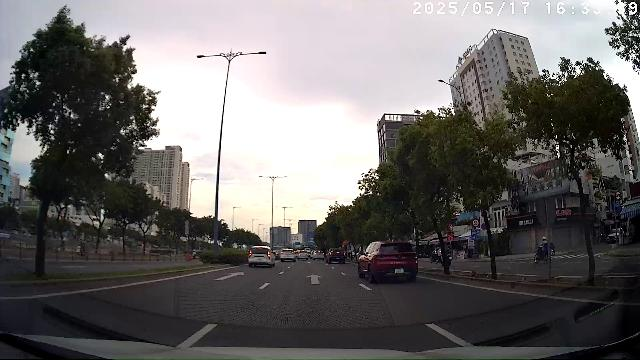127-toc-do-toi-da-50: (472, 220, 480, 226)
